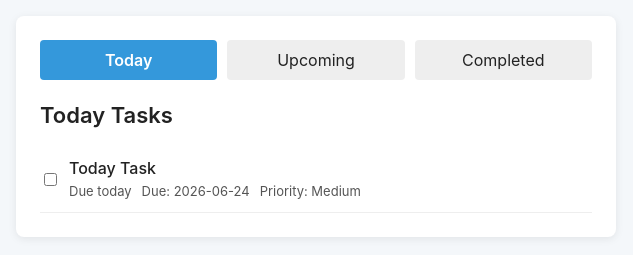
DashboardView › navigates to Completed and shows completed tasks
The width and height of the screenshot is (633, 255).
Click the button "Completed" at x=503, y=60, box [415,40,592,80]
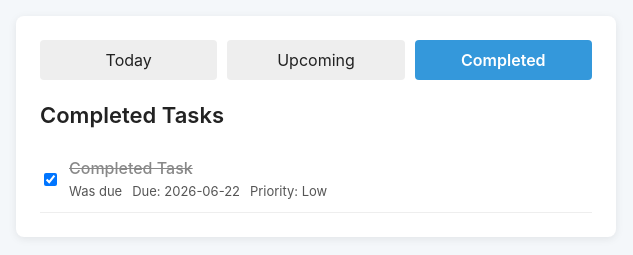
Check: the heading "Completed Tasks" is shown, box [40,102,224,128]
Check: the text "Completed Task" is shown, box [69,158,193,178]
Check: the heading "Today Task" is gone
